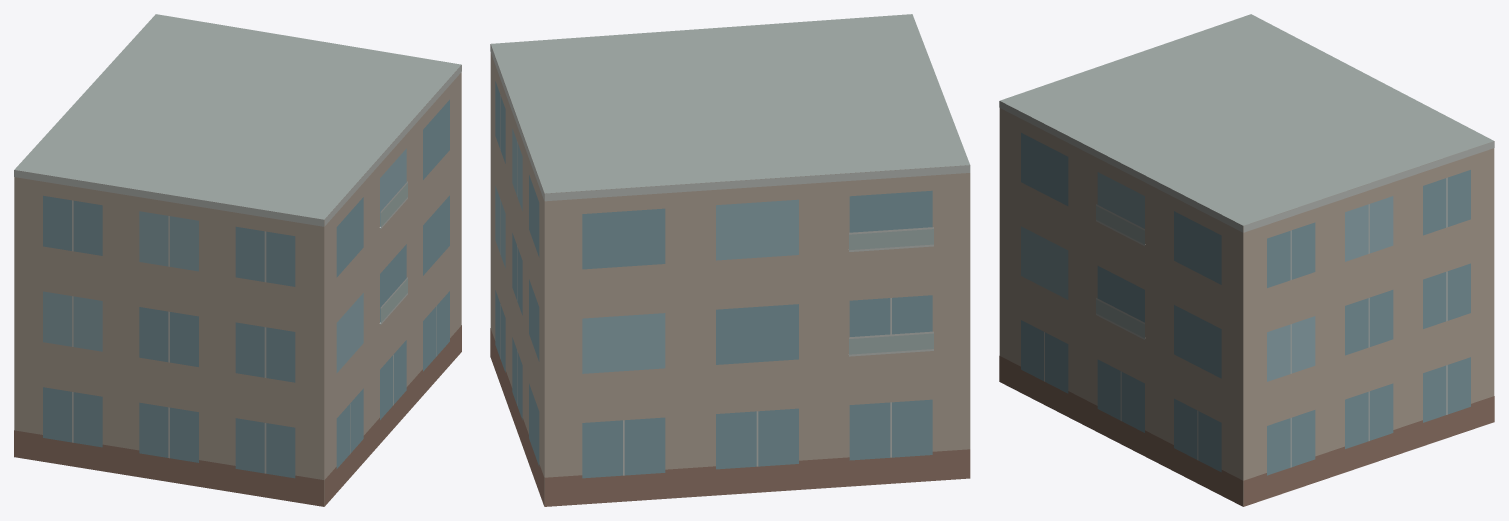
Rendered from survey-upis-32729153.glb.
3 renders of one model, left to right at view 1: azimuth 30°, elevation 25°; view 2: azimuth 150°, elevation 25°; view 3: azimuth 270°, elevation 25°, orthographic. The views are drawn at different scales.
Parts seen in each view (by area): view 1: survey-upis-32729153.tmp; view 2: survey-upis-32729153.tmp; view 3: survey-upis-32729153.tmp.
Boxes of the visible parts, x1,y1,x2,y2 form: survey-upis-32729153.tmp: (14, 14, 461, 506); survey-upis-32729153.tmp: (490, 14, 970, 506); survey-upis-32729153.tmp: (999, 14, 1494, 506).
Size of the model in its own units: 15.85 by 9.8 by 15.65.
